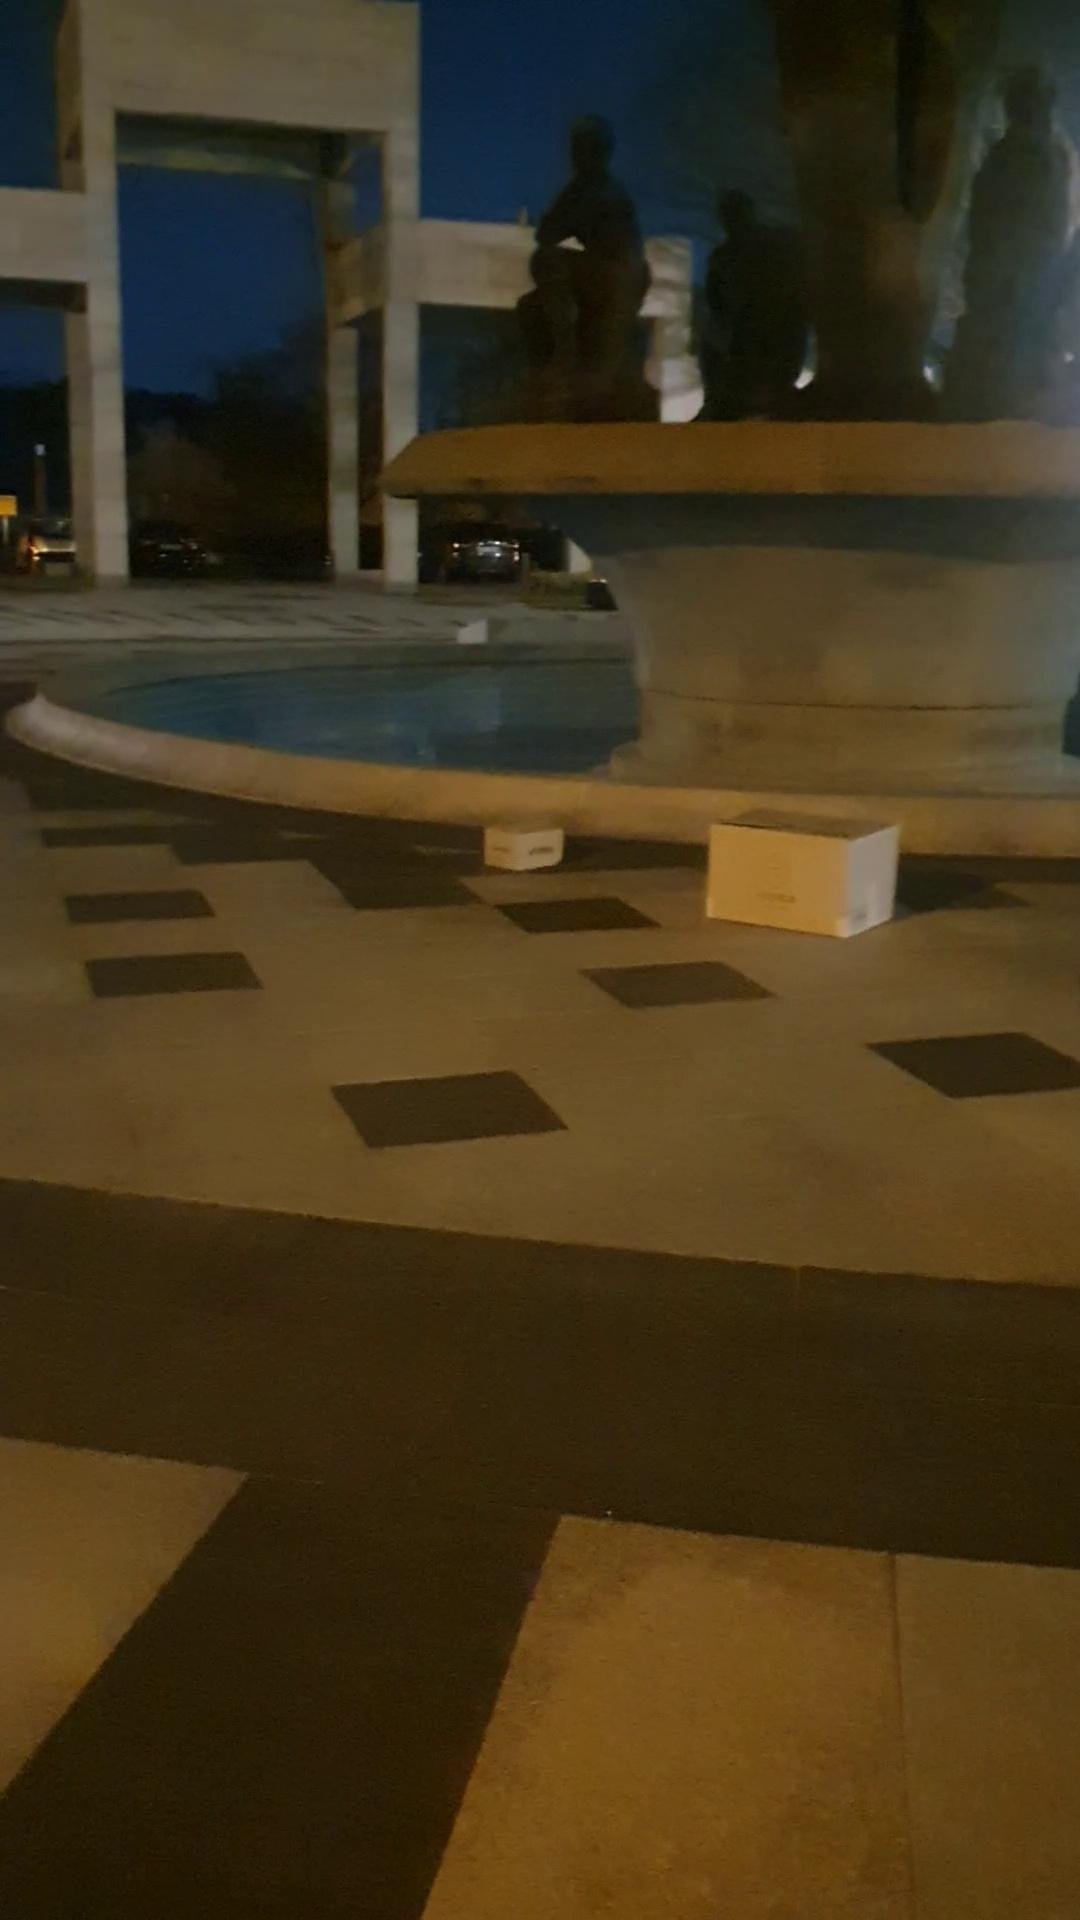Box: (691, 798, 927, 945), (454, 804, 570, 876)
